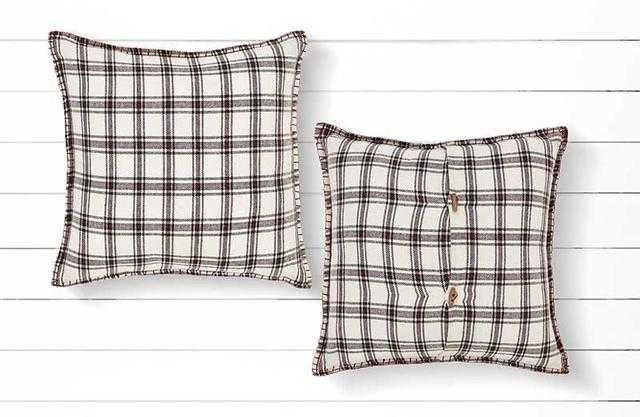pillow: (48, 27, 312, 288), (310, 120, 570, 376)
